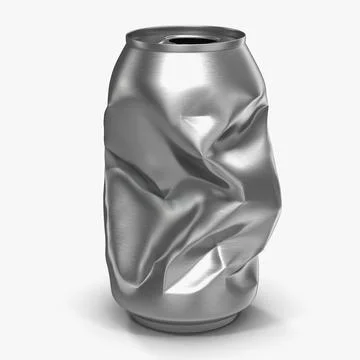can: (104, 24, 284, 335)
